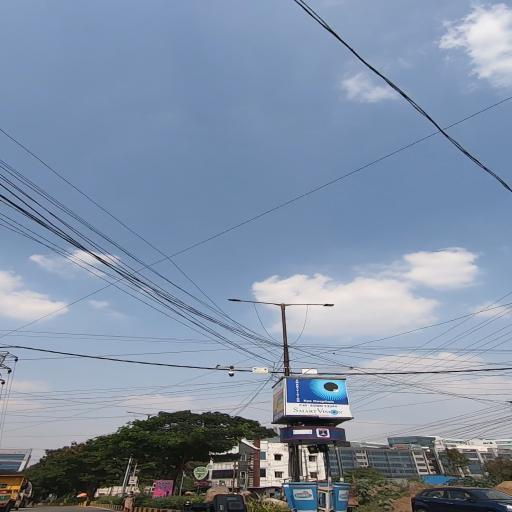Street_light: (224, 297, 280, 310), (289, 300, 336, 311)
